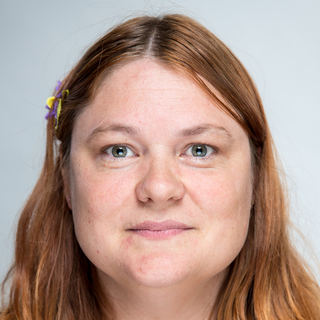eye: (95, 140, 143, 165), (178, 140, 224, 165)
